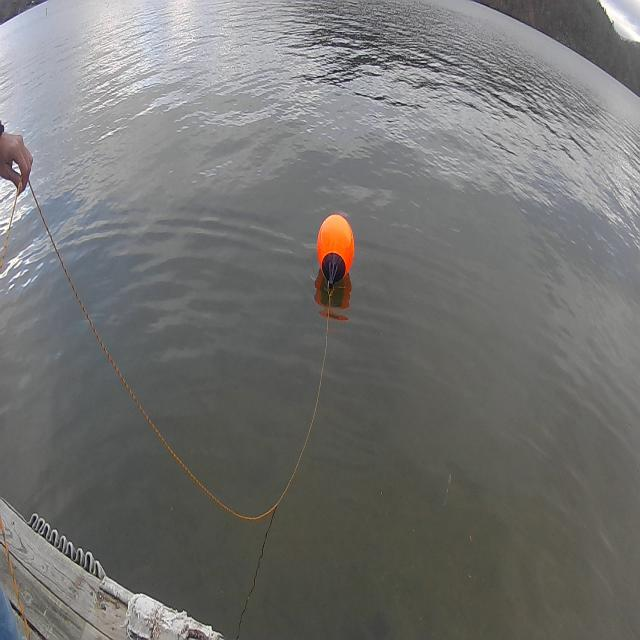Buoy: (316, 212, 356, 277)
